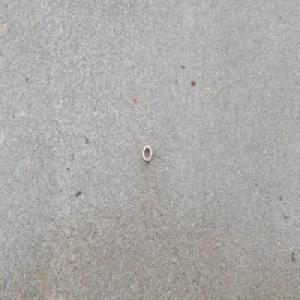Nut: (141, 143, 153, 162)
